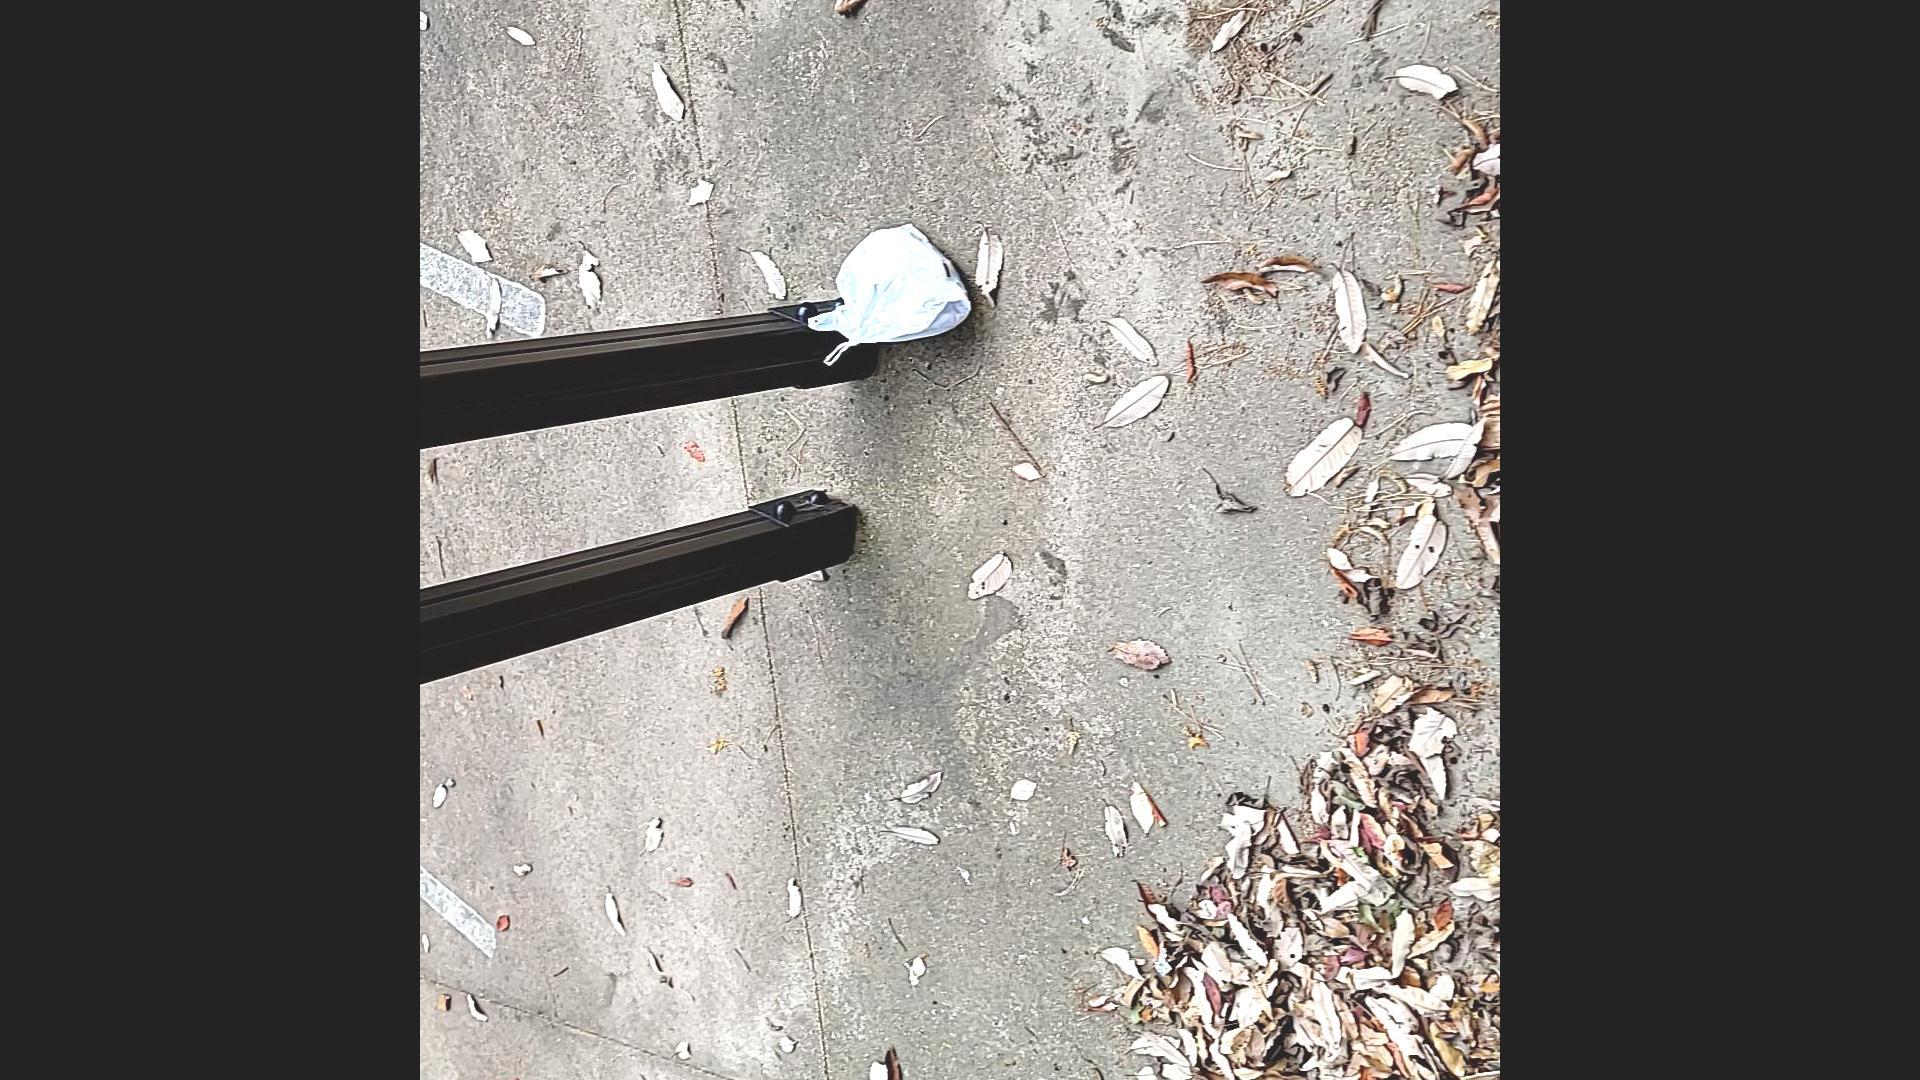white_bag: (808, 214, 992, 371)
